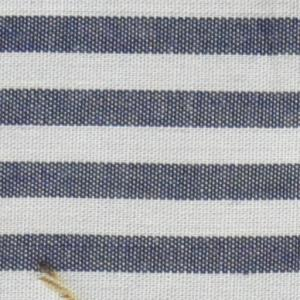Oil Stain: (31, 254, 81, 300)
